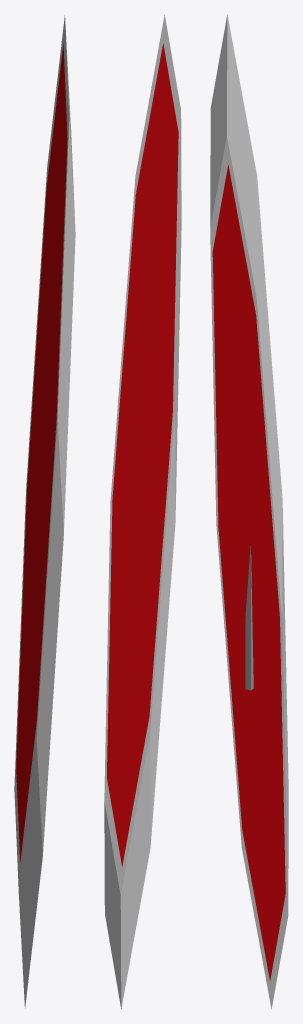
Rendered from stopSign.glb.
The picture shows the model from 3 angles, left to right: view 1: azimuth 90°, elevation 25°; view 2: azimuth 150°, elevation 25°; view 3: azimuth 330°, elevation 25°; orthographic projection. The views are drawn at different scales.
Parts seen in each view (by area): view 1: sign; view 2: sign; view 3: sign, pole.
Part boxes in pixels (x1,y1,x2,y2): sign: [14, 15, 75, 1008]; sign: [104, 15, 181, 1008]; sign: [210, 14, 288, 1009]; pole: [245, 546, 253, 690].
Bounding box in the file's own units: 15.45 × 278 × 15.33.
